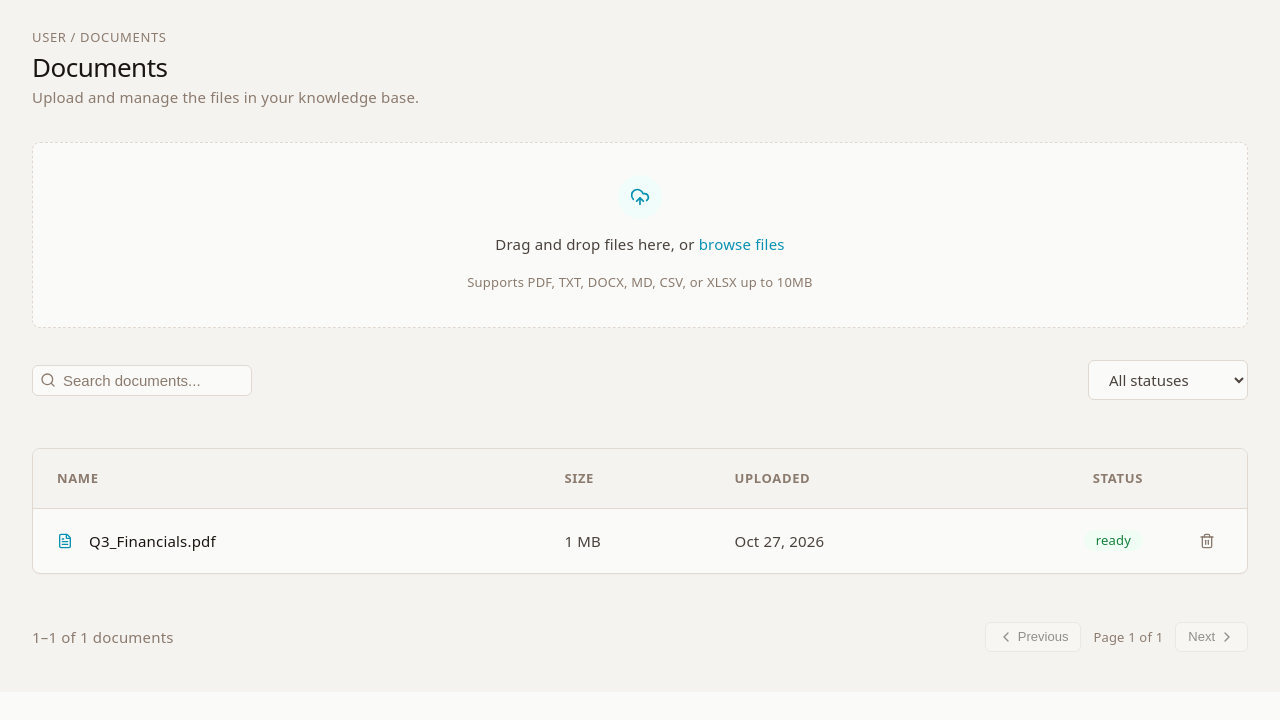
Test: DocumentsPage User Flows › deleting a document used by conversations › names every conversation that would be deleted, and what is in it
Check: the link "Q3_Financials.pdf" is shown, box [89, 528, 216, 554]
Click the button titled "Delete document": (1207, 541) [1191, 525, 1223, 557]
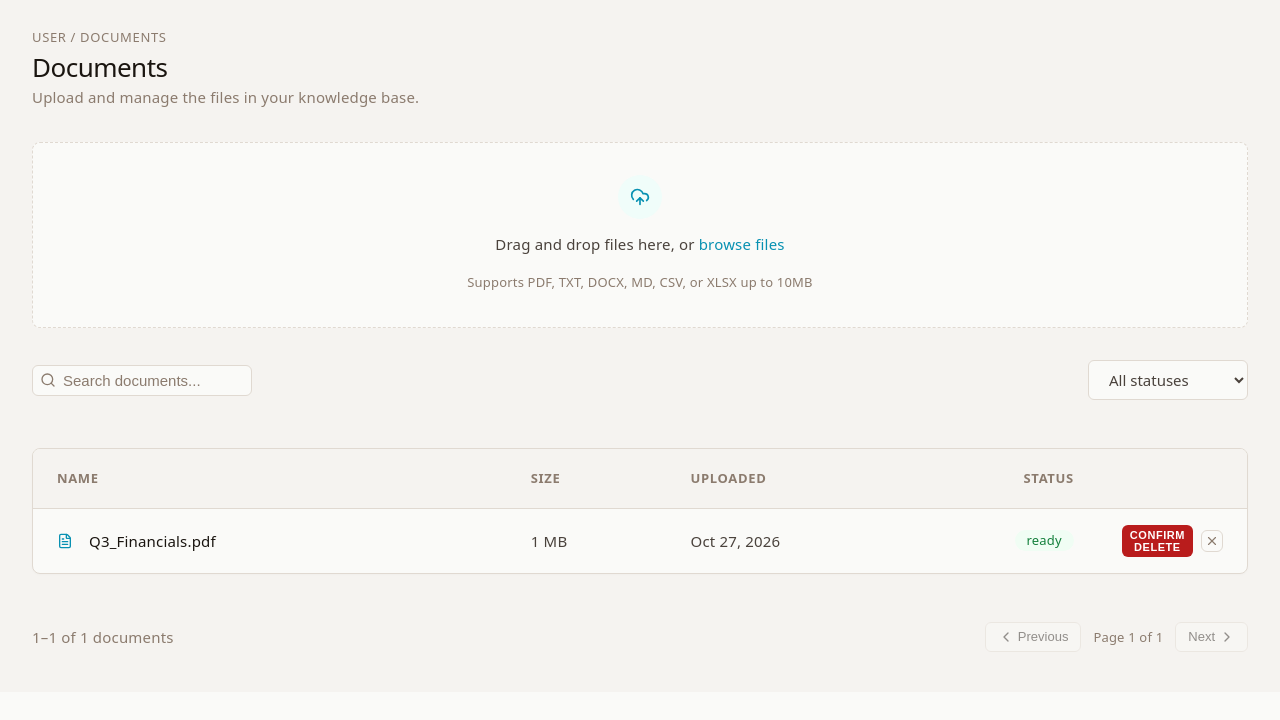
Click the button "Confirm Delete": (1157, 541) [1122, 525, 1193, 557]
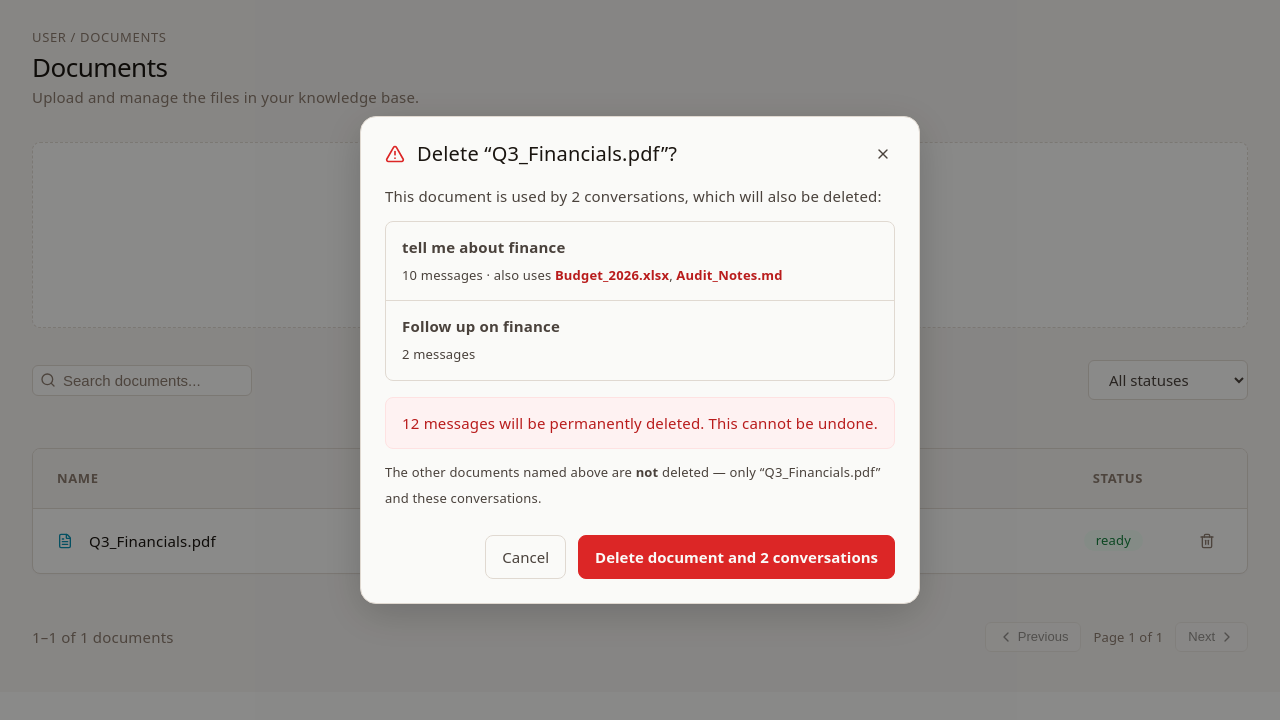
Check: the dialog is shown, box [360, 116, 920, 604]
Check: the link "tell me about finance" is shown, box [402, 234, 582, 260]
Check: the link "Follow up on finance" is shown, box [402, 313, 577, 340]
